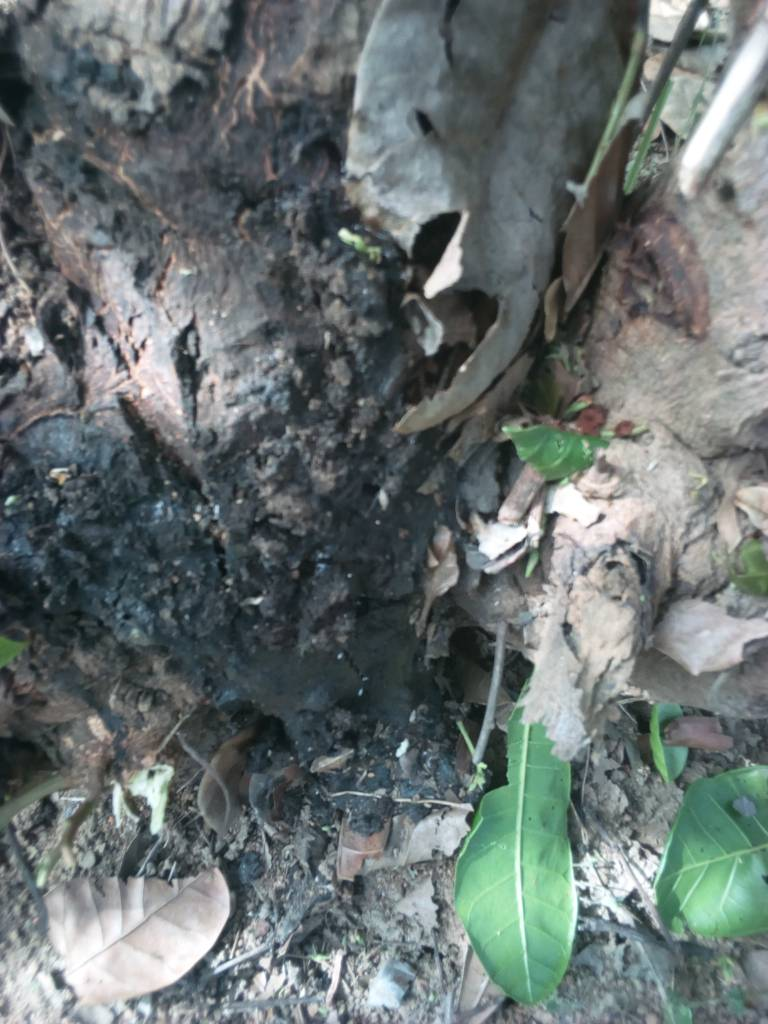Gommose: (25, 272, 393, 755)
